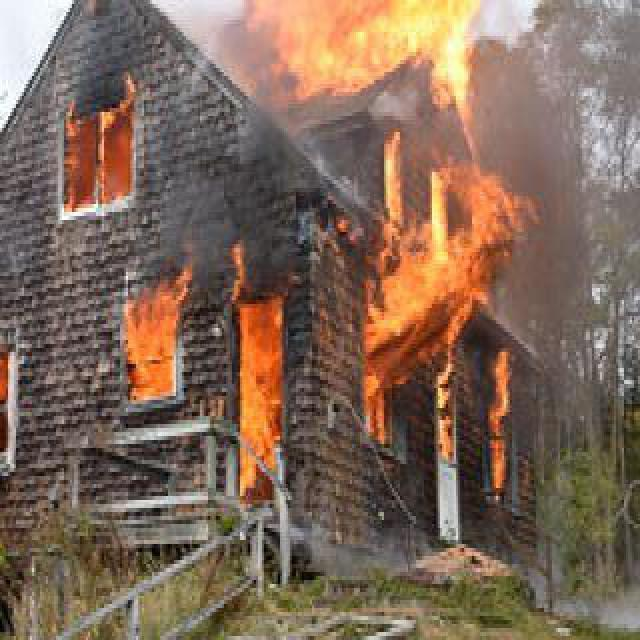Fire: (360, 154, 508, 430), (124, 242, 198, 406), (238, 286, 292, 504), (60, 86, 140, 216), (480, 358, 512, 500)
Smoke: (508, 30, 612, 326), (154, 114, 326, 240)
